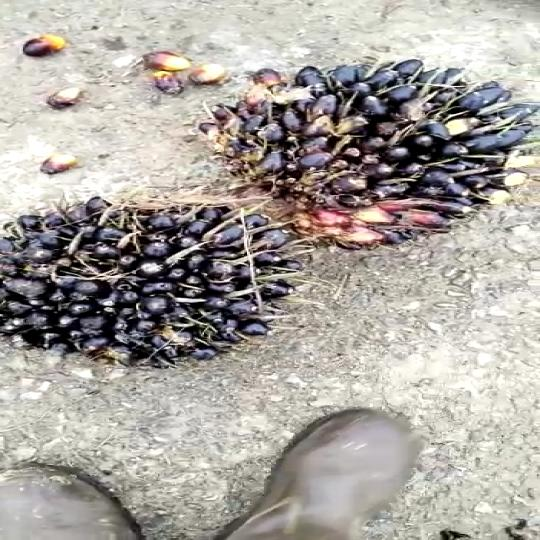mentah: (173, 53, 540, 252), (0, 178, 316, 368)
